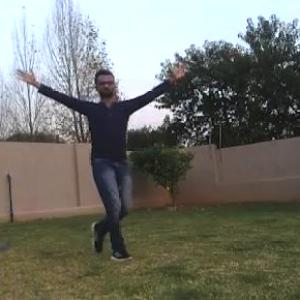takeoff: (20, 67, 188, 261)
